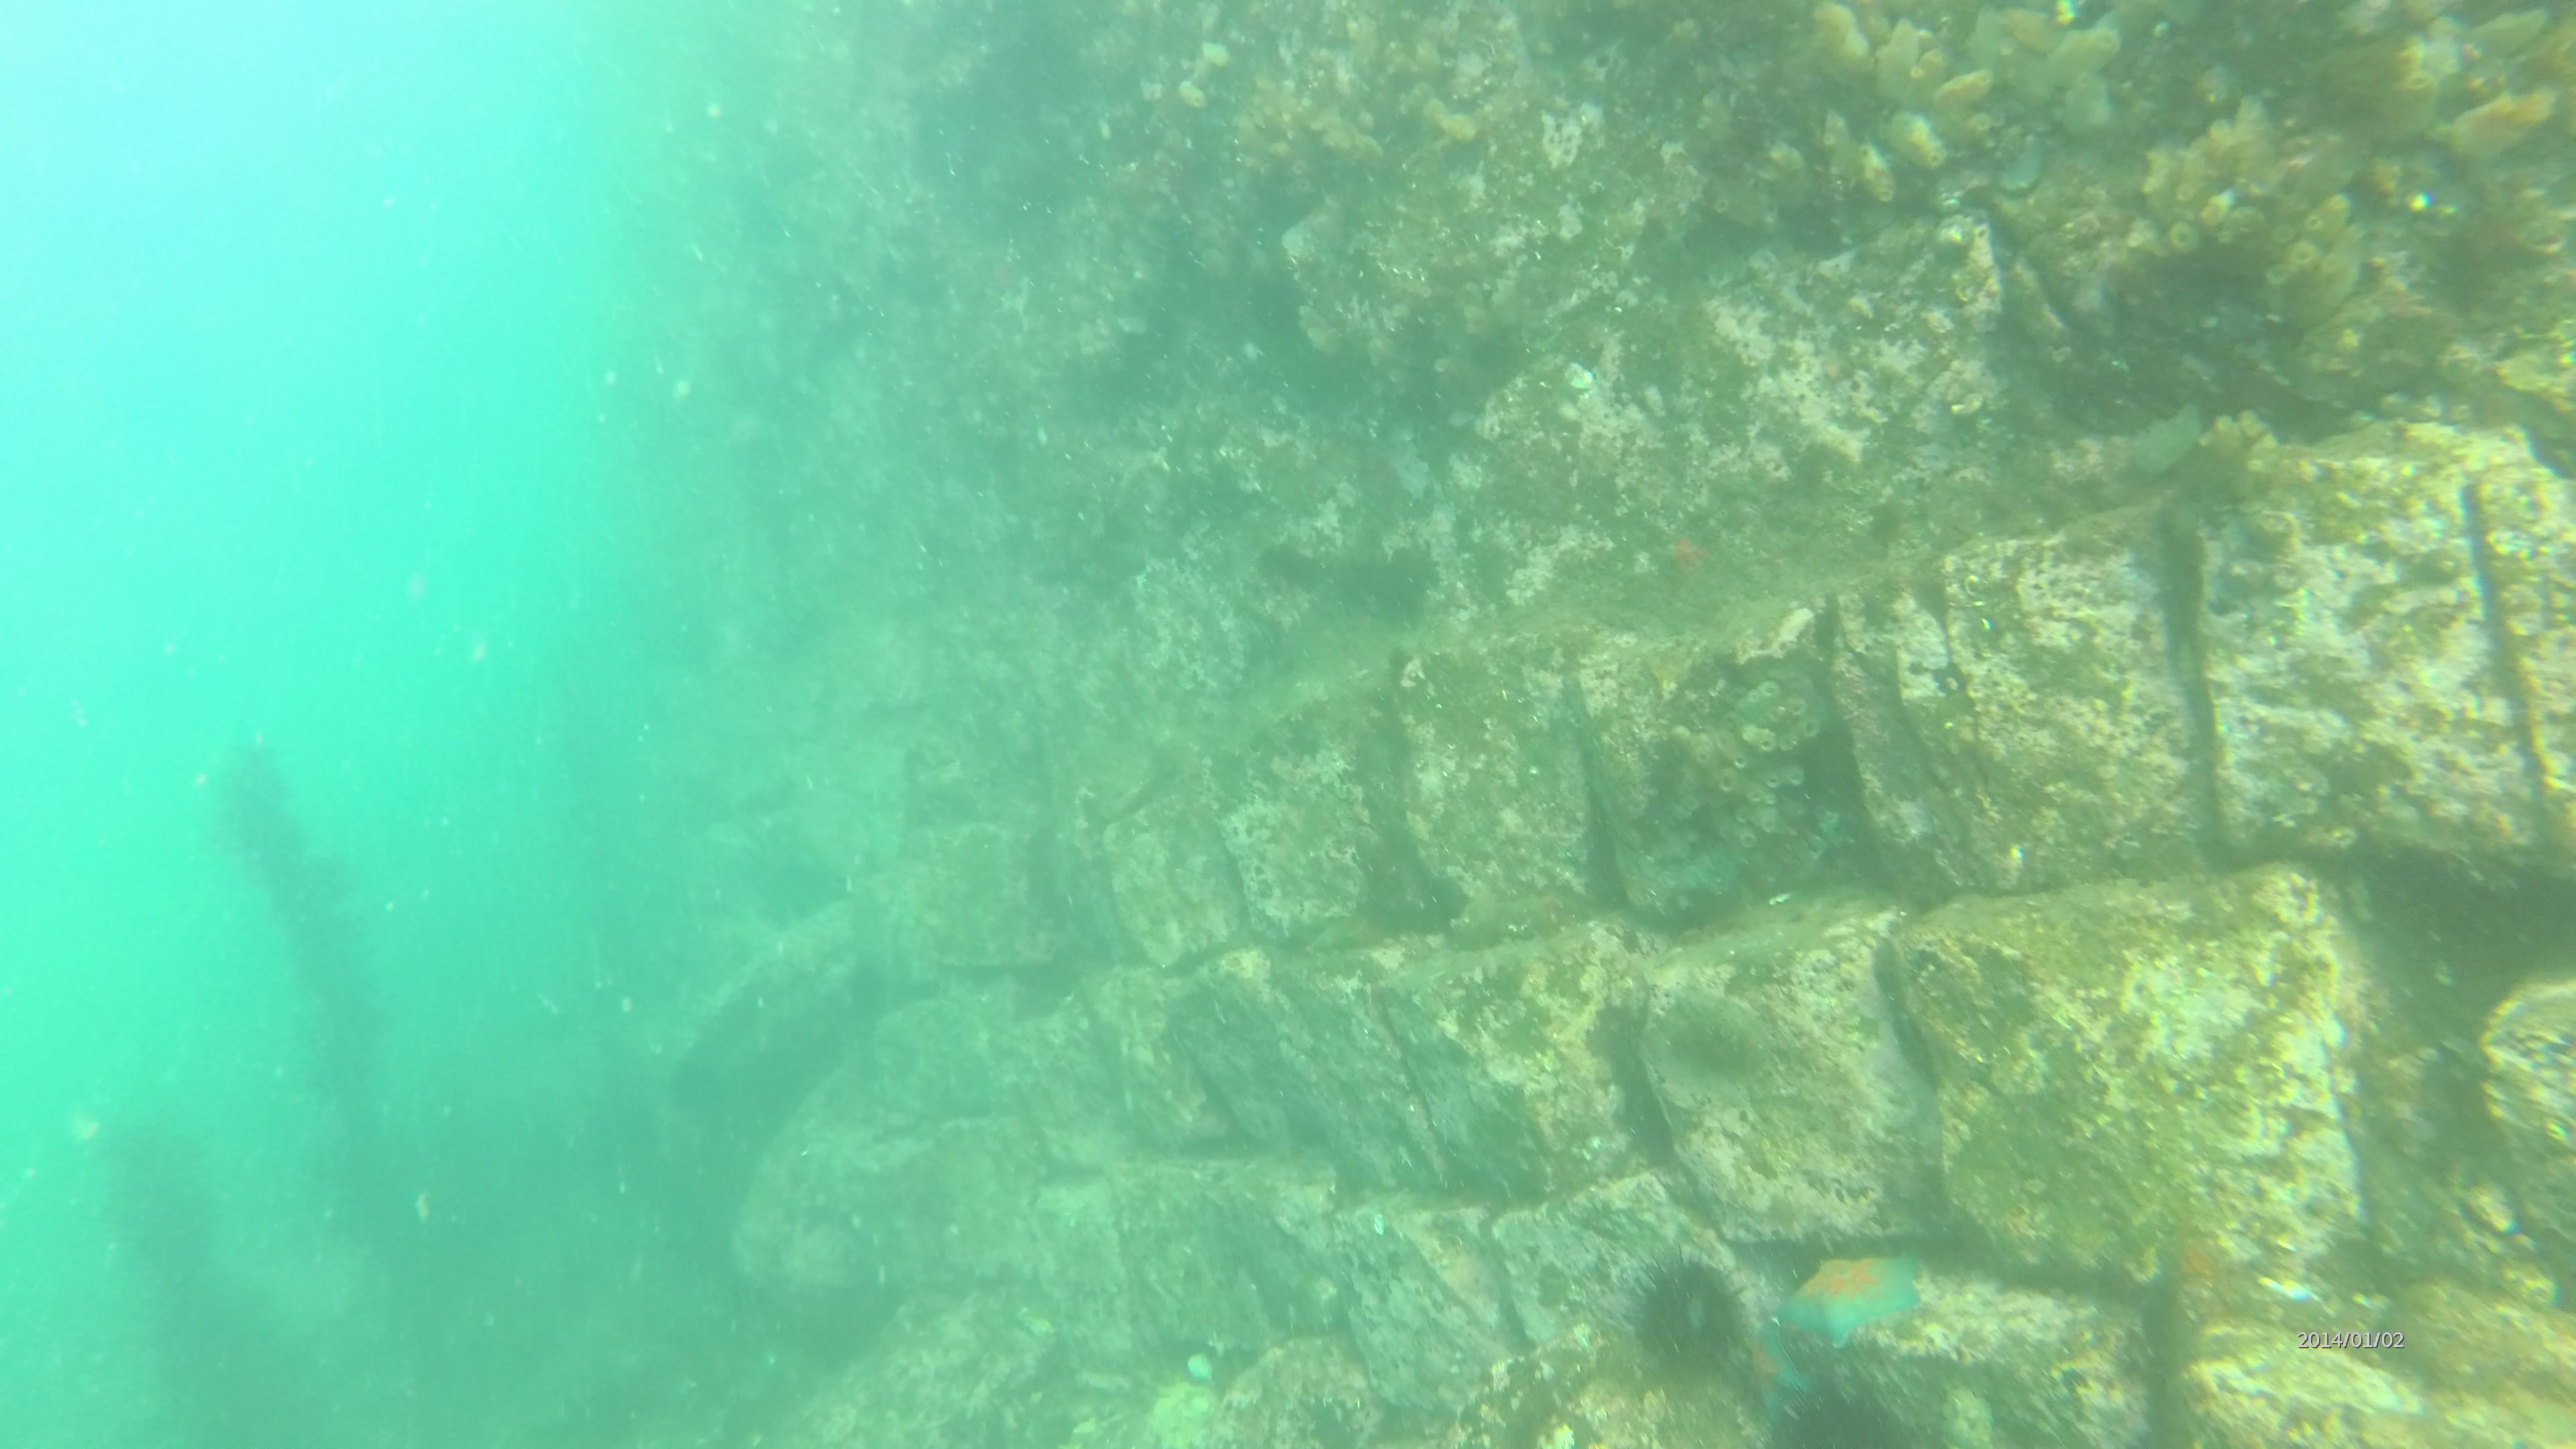echinus: (1622, 1244, 1762, 1384)
starfish: (1783, 1238, 1925, 1348), (1723, 1311, 1812, 1417)
